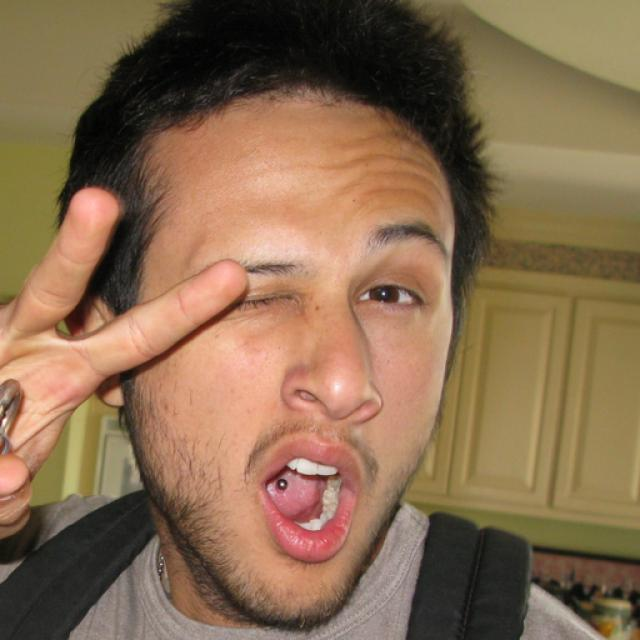surprise: (126, 84, 456, 614)
